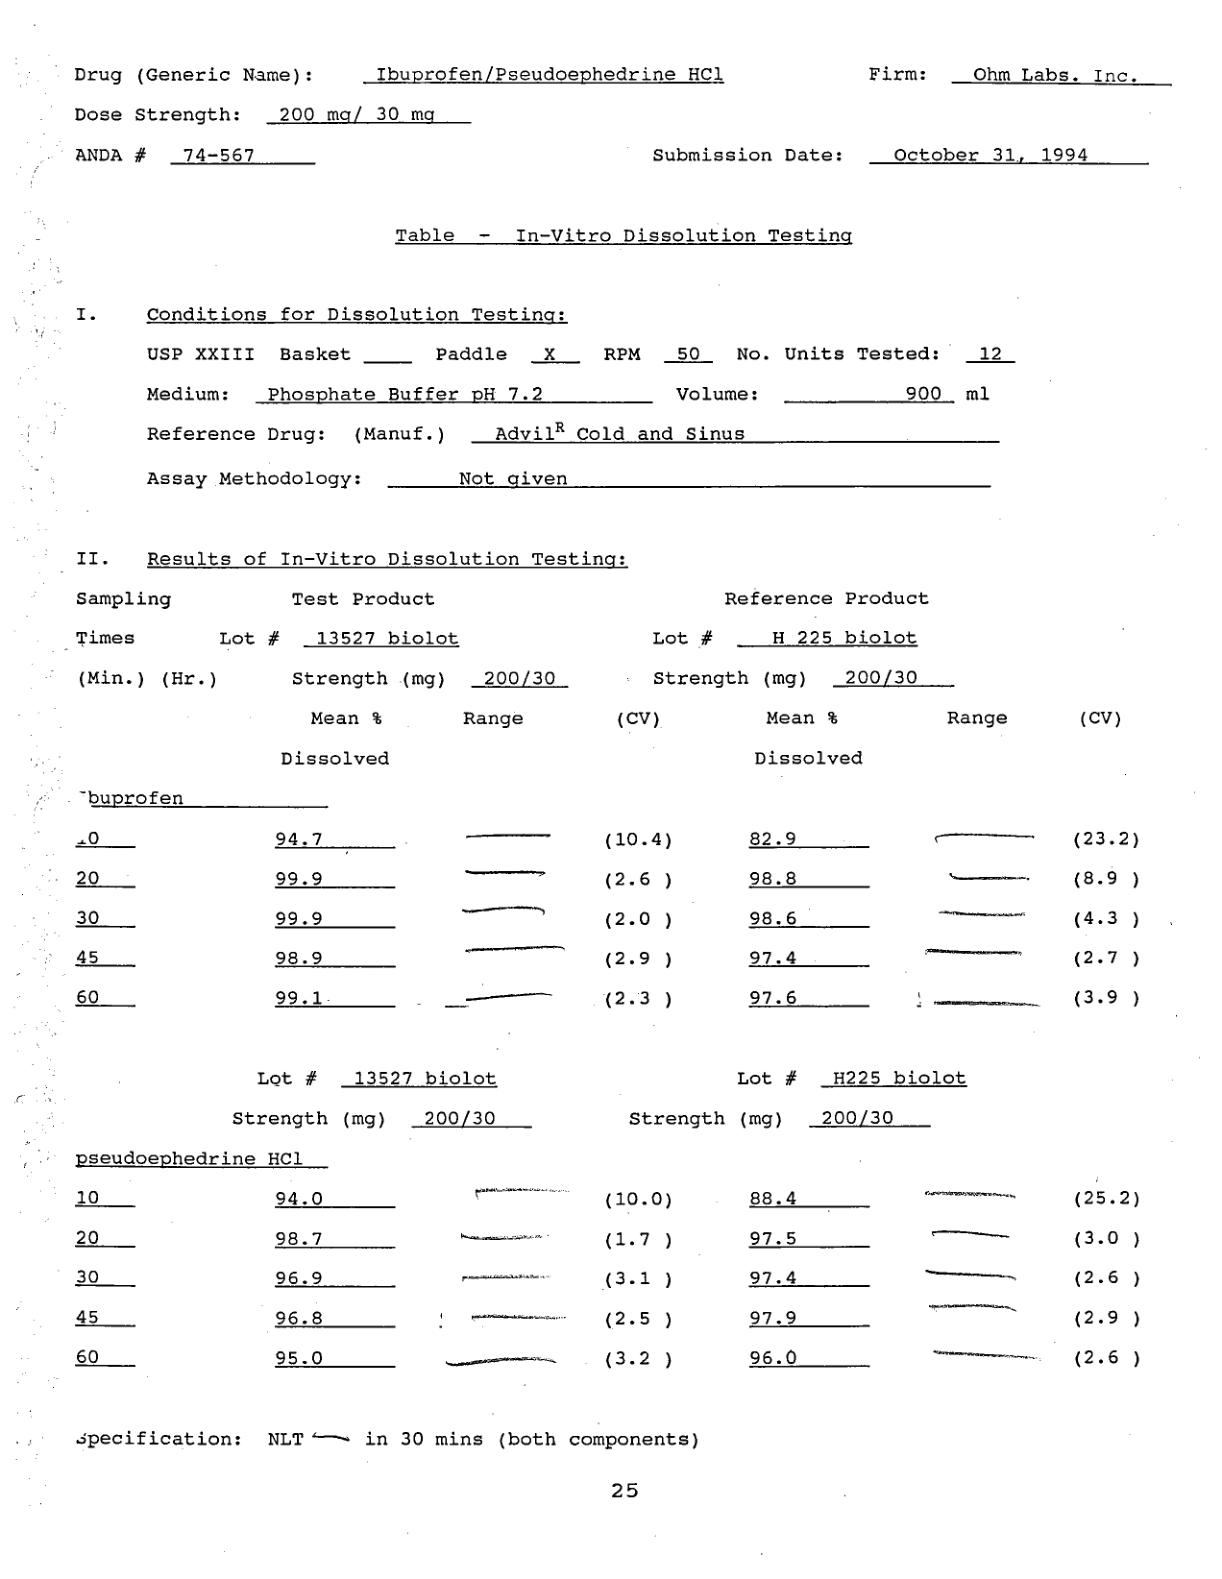nolines: (65, 1182, 1150, 1382), (64, 825, 1148, 1021)
